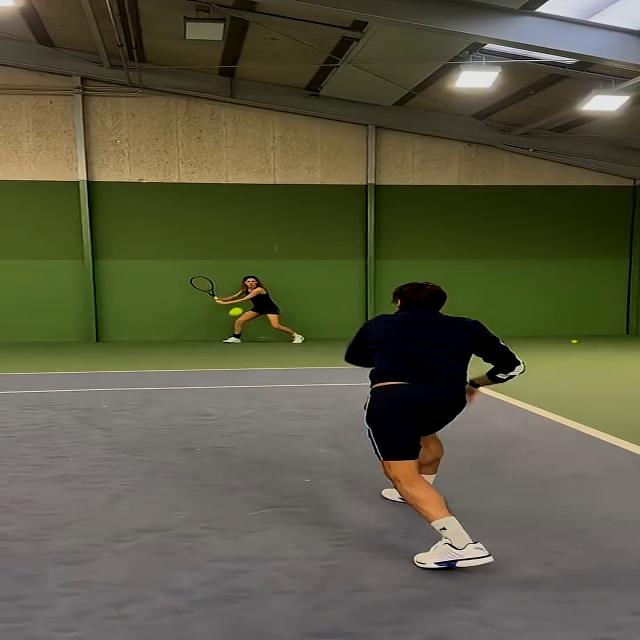tennis_ball: (232, 308, 242, 314)
